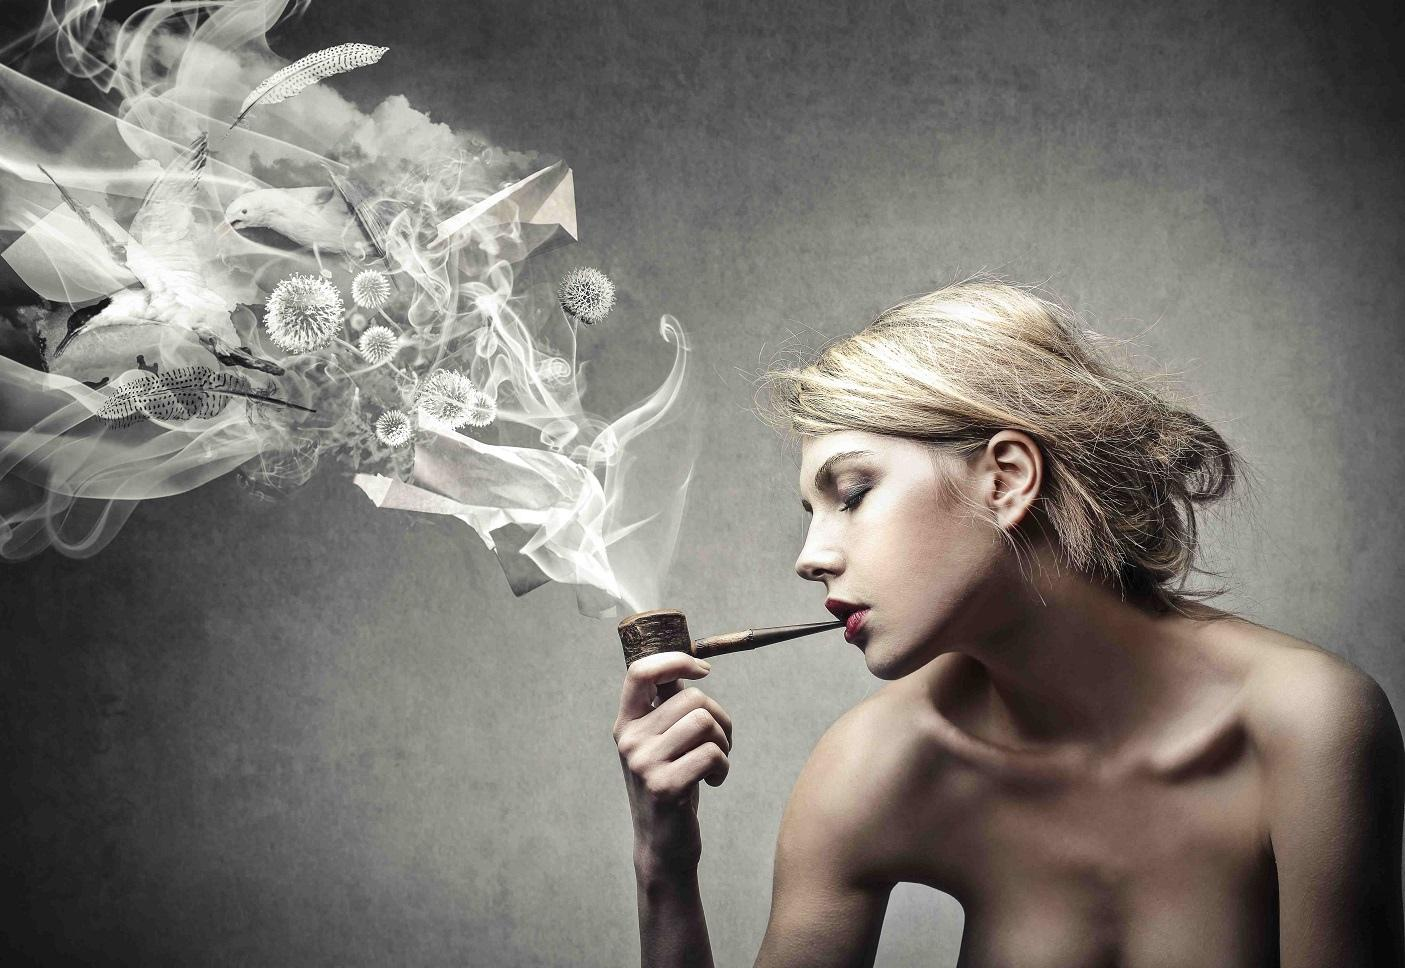trubka: (618, 610, 843, 666)
